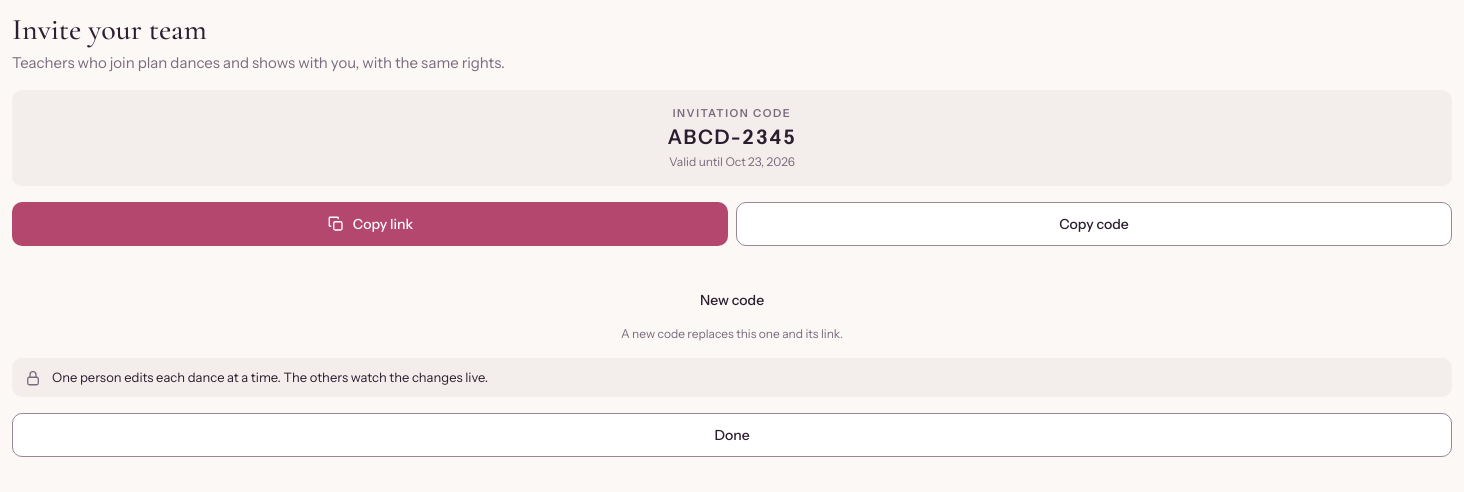
with an active code › says the link was copied
Click the button "Copy link" at point(370, 224), box [12,202,728,246]
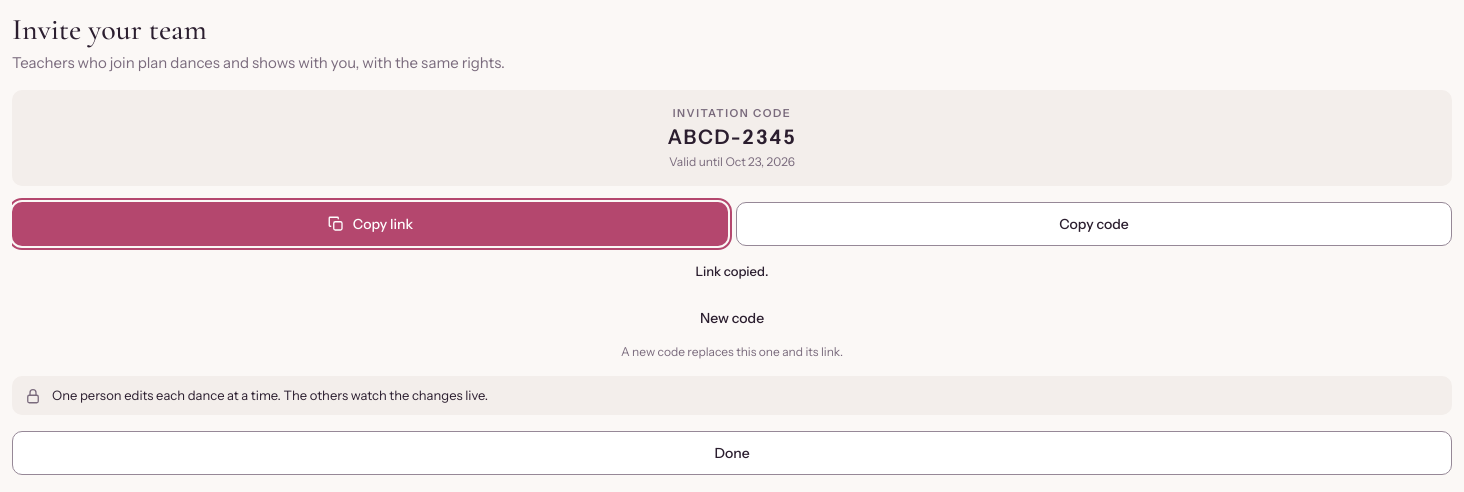
expect the message reads "Link copied.": met, box [696,263,768,279]
